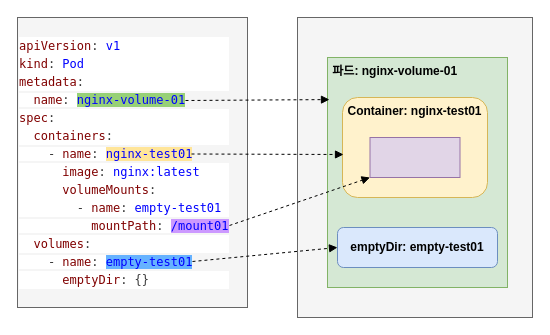
This 550x335 diagram has some shape labels left out. Here are the shapes that lost their labels. From the top down, the box of each, then its label:
(296, 16, 532, 318): 노드
(369, 136, 460, 178): /mount01
